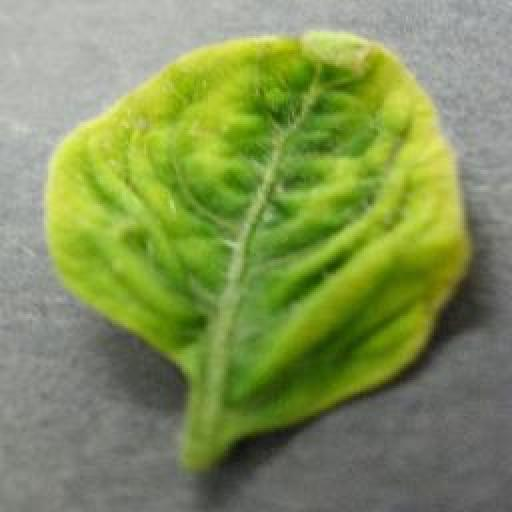Yellow Leaf Curl Virus: (44, 32, 471, 440)
